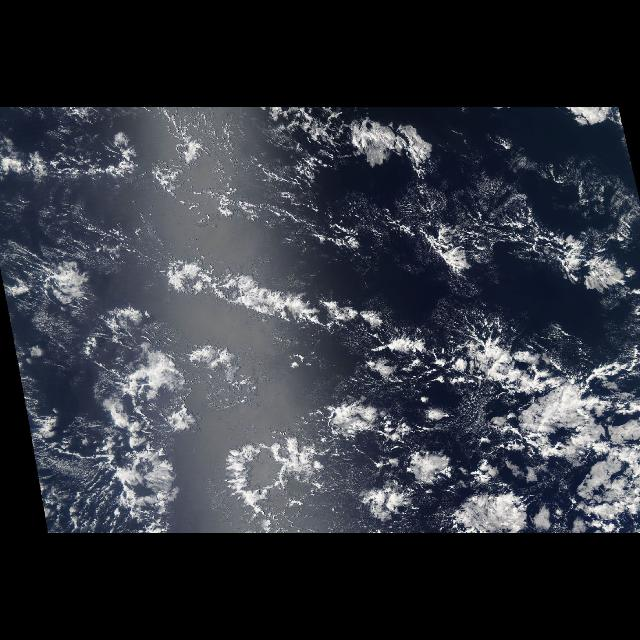Fish: (144, 193, 588, 411)
Flower: (270, 304, 634, 532)
Sugar: (10, 114, 168, 402)
